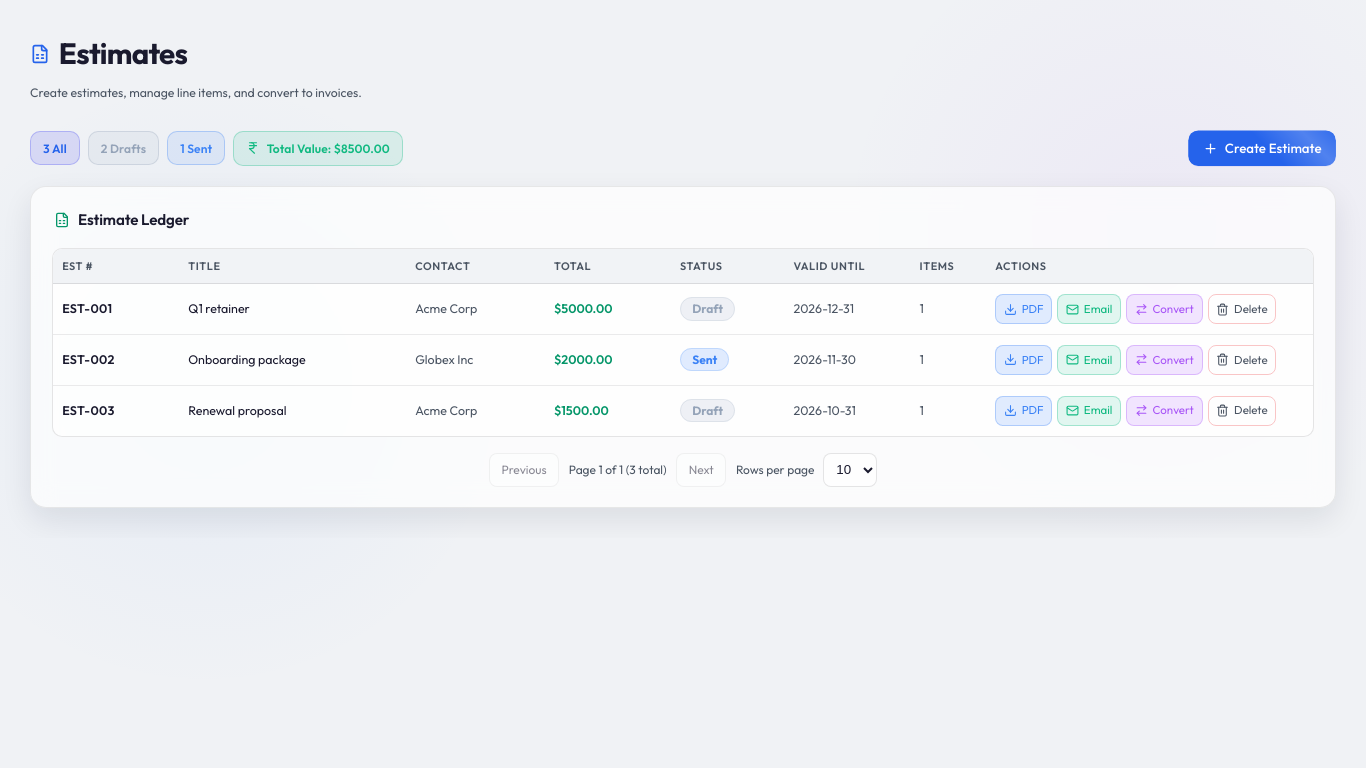
Test: <Estimates /> — page surface › out-of-range discount disables submit and surfaces an "out of range" message
Check: the text "EST-001" is shown, box 52,284 -> 179,335
Click the button "Create Estimate" at [1262, 148], box 1188,130 -> 1336,166
(page scrolled)
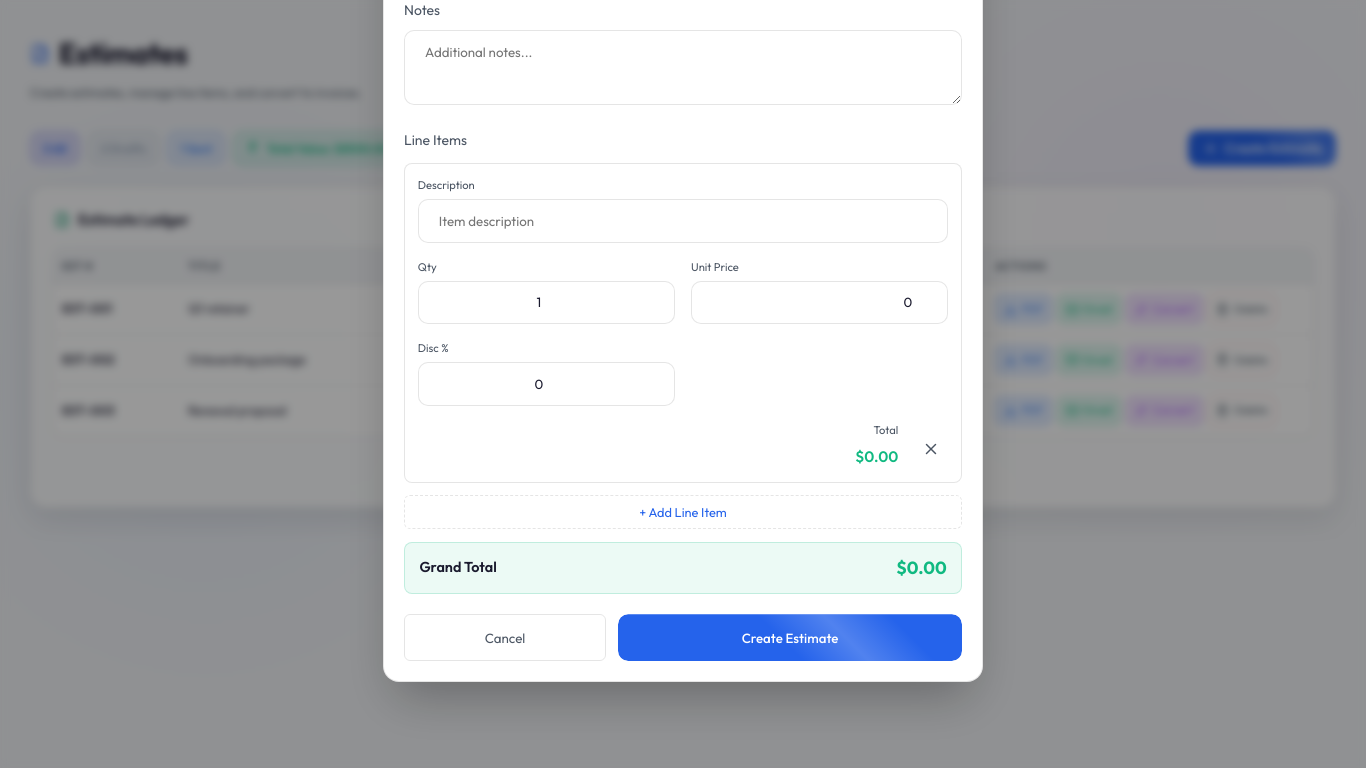
Replace the text in the number field named "Line item 1 discount percent" with "150" at [546, 384], box 418,362 -> 675,406
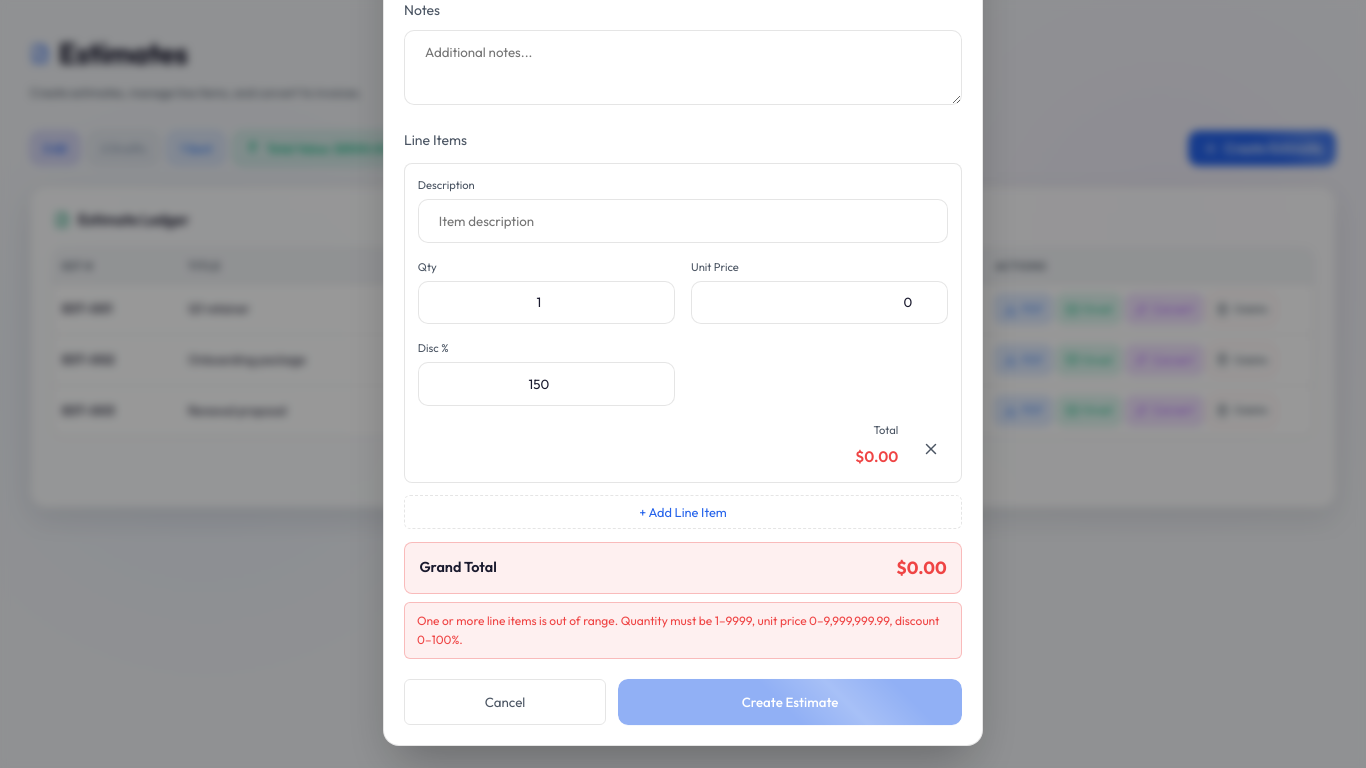
Check: the text "out of range" is shown, box 417,613 -> 715,628
Check: the button "Create Estimate" is disabled, box 618,679 -> 962,725
